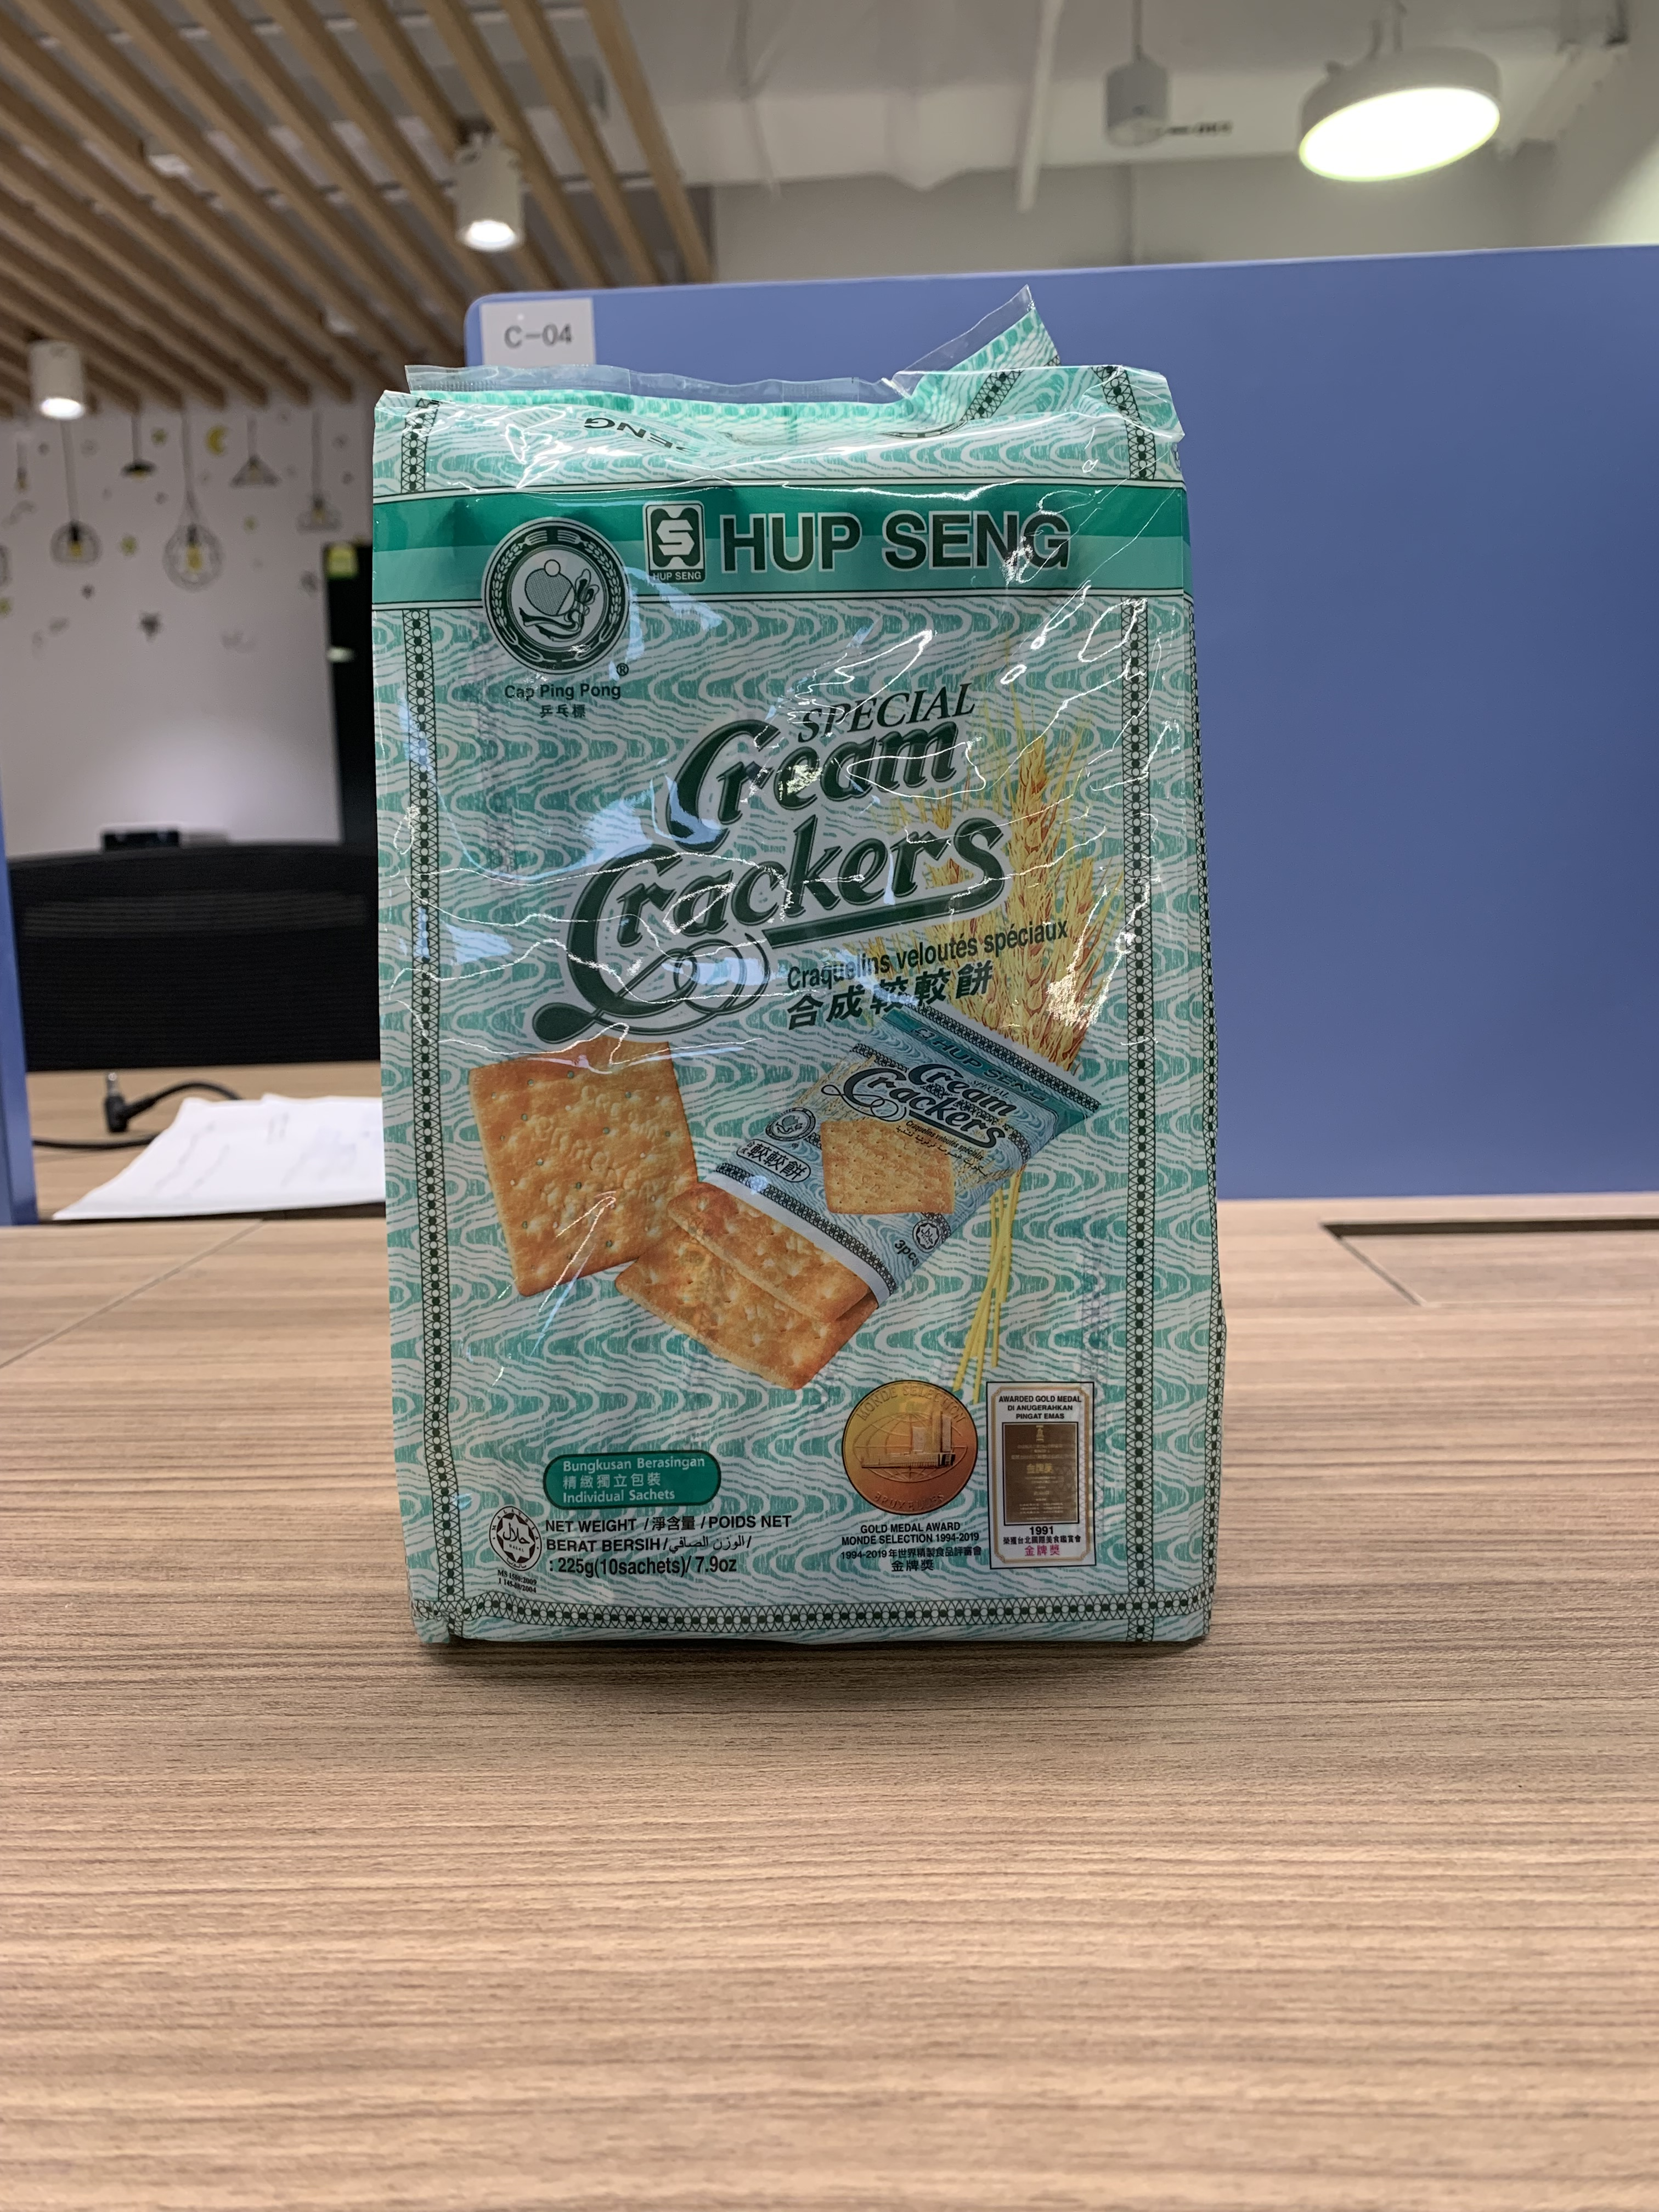crackers_200g-299g: (396, 394, 1215, 1623)
